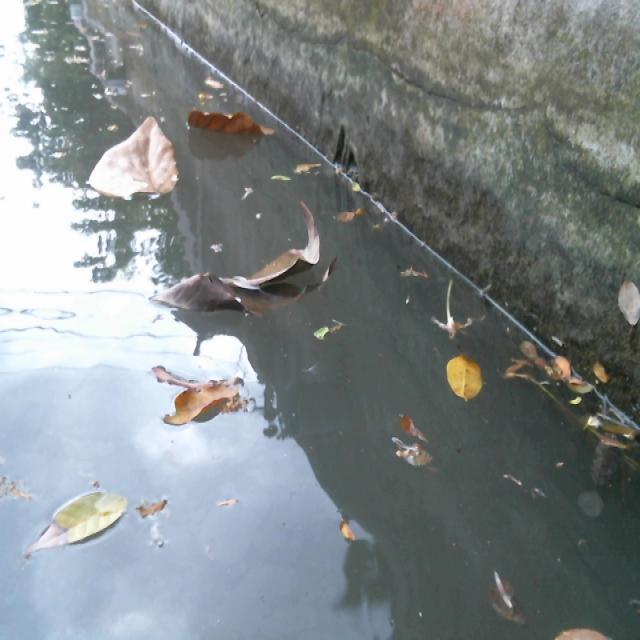Big-leaf: (154, 196, 328, 312), (80, 91, 182, 213), (155, 351, 256, 439), (189, 102, 274, 148)
Small-leaf: (22, 476, 143, 559), (476, 554, 534, 634), (444, 336, 492, 403), (393, 410, 438, 478), (587, 413, 640, 455), (555, 336, 582, 394), (137, 486, 182, 519), (337, 197, 378, 229), (296, 317, 338, 346), (554, 624, 619, 640), (399, 261, 435, 289), (202, 70, 229, 96)
